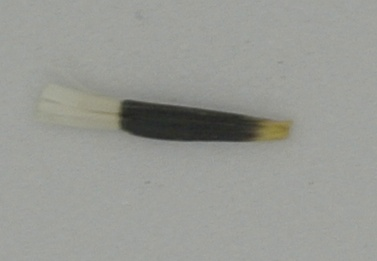เมล็ดดีติดกัน: (34, 81, 295, 146)
